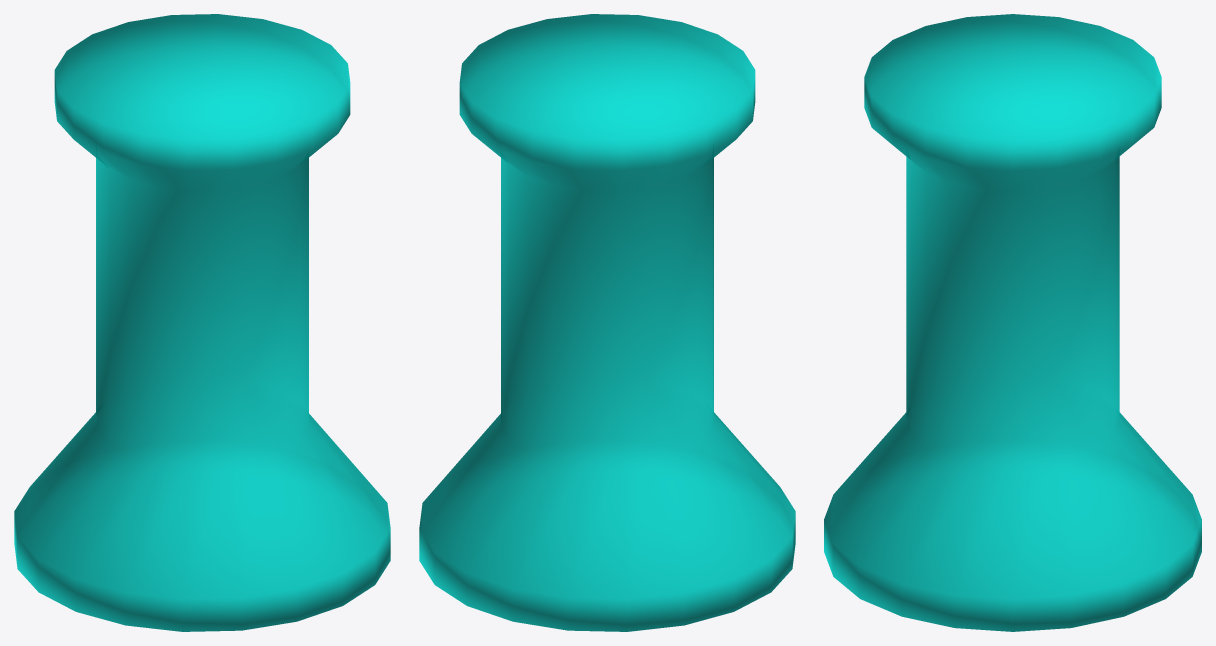
The model's file is mdl_hub_vol1pushpin.gltf.
The picture shows the model from 3 angles, left to right: view 1: azimuth 30°, elevation 25°; view 2: azimuth 150°, elevation 25°; view 3: azimuth 270°, elevation 25°; orthographic projection.
Parts seen in each view (by area): view 1: pCone2; view 2: pCone2; view 3: pCone2.
Boxes of the visible parts, x1,y1,x2,y2 form: pCone2: (14, 14, 390, 631); pCone2: (419, 14, 795, 631); pCone2: (824, 14, 1201, 631).
Size of the model in its own units: 0.0086 by 0.0119 by 0.0086.
